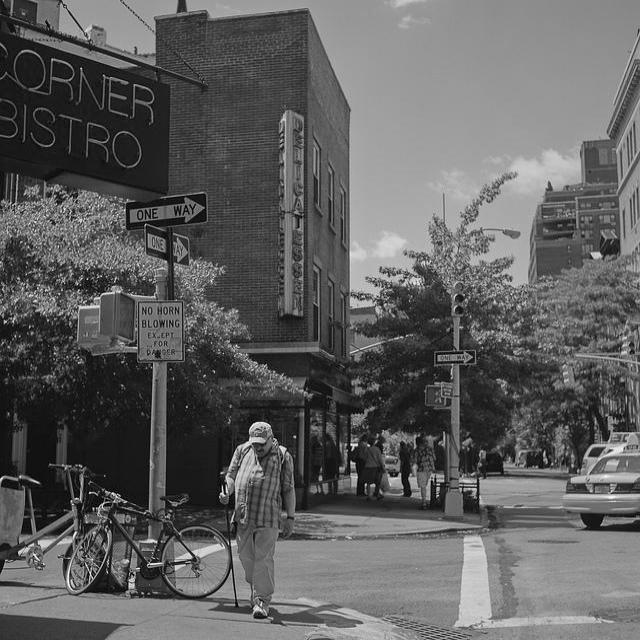vehicle: (560, 430, 640, 530), (581, 444, 623, 474), (523, 450, 543, 470), (382, 454, 400, 476), (485, 452, 504, 472), (514, 452, 526, 469)
